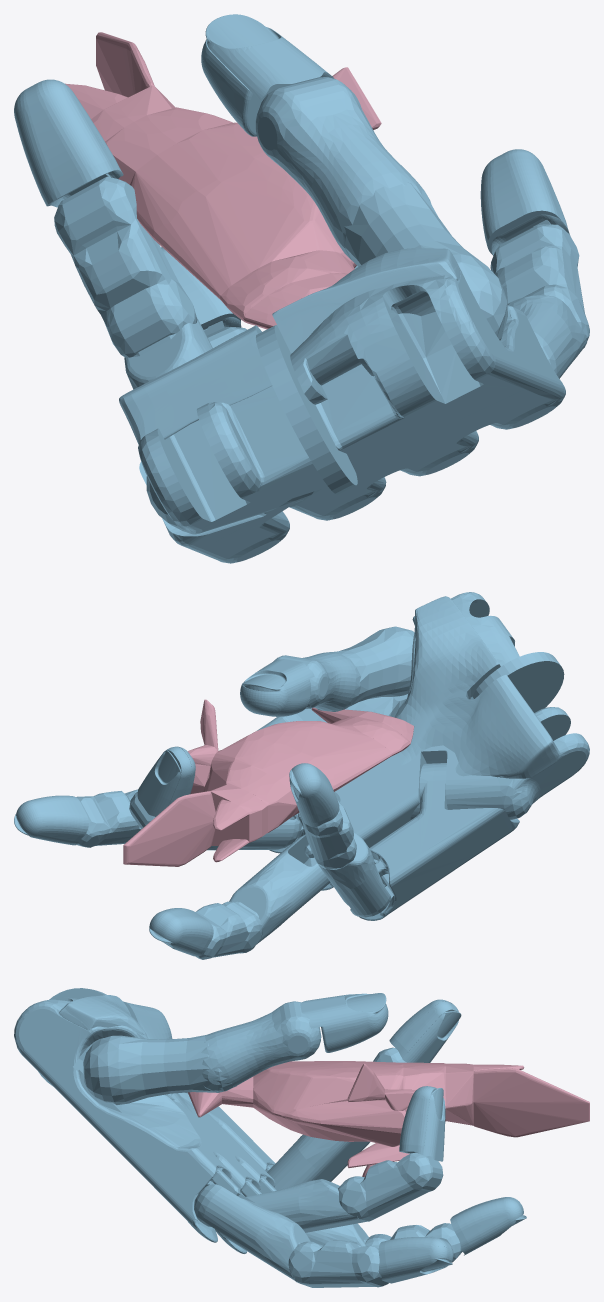
The picture shows the model from 3 angles, top to bottom: view 1: azimuth 30°, elevation 25°; view 2: azimuth 150°, elevation 25°; view 3: azimuth 270°, elevation 25°; orthographic projection. The views are drawn at different scales.
Visible parts, largest first — view 1: hand_isaac_q, world; view 2: hand_isaac_q, world; view 3: hand_isaac_q, world.
Part boxes in pixels (x1=…): hand_isaac_q: x1=14, y1=14, x2=589, y2=563; world: x1=65, y1=32, x2=381, y2=329; hand_isaac_q: x1=14, y1=592, x2=589, y2=959; world: x1=123, y1=699, x2=414, y2=866; hand_isaac_q: x1=14, y1=988, x2=526, y2=1287; world: x1=188, y1=1061, x2=589, y2=1177.
Bounding box in the file's own units: 0.1693 × 0.1103 × 0.2125.
